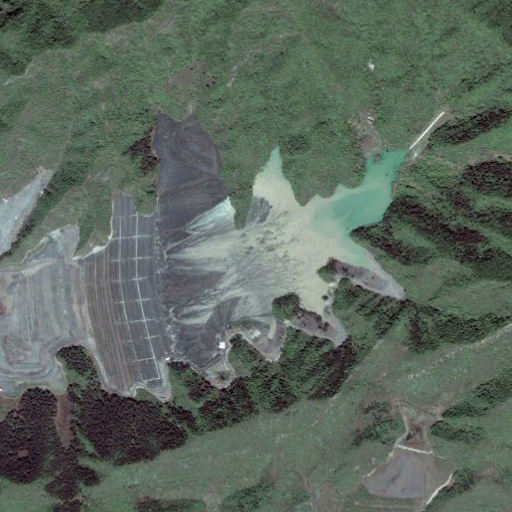tp: (84, 109, 410, 402)
